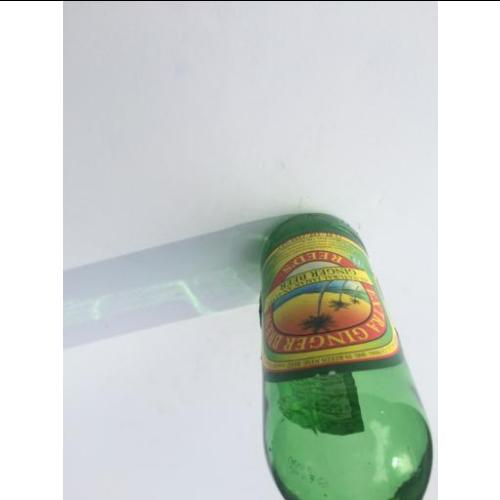glass: (267, 212, 432, 500)
